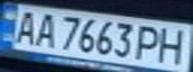3: (112, 20, 136, 60)
6: (75, 16, 100, 55), (93, 19, 115, 57)
7: (54, 14, 81, 52)
A: (9, 8, 42, 45), (30, 10, 60, 48)
H: (154, 25, 193, 65)
P: (133, 23, 166, 62)
